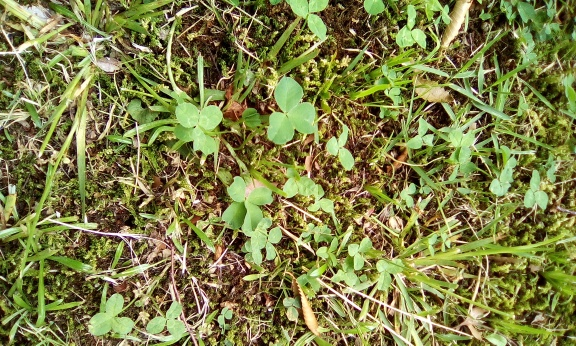4leaf: (220, 175, 273, 236)
